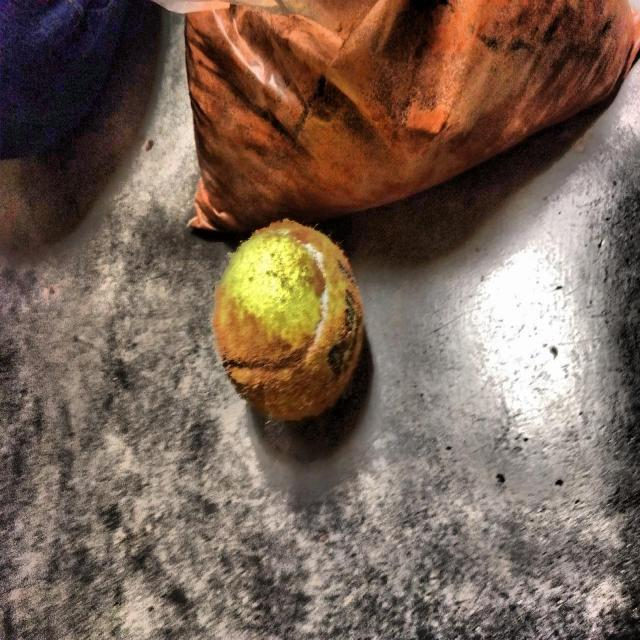tennis-ball: (209, 217, 371, 449)
